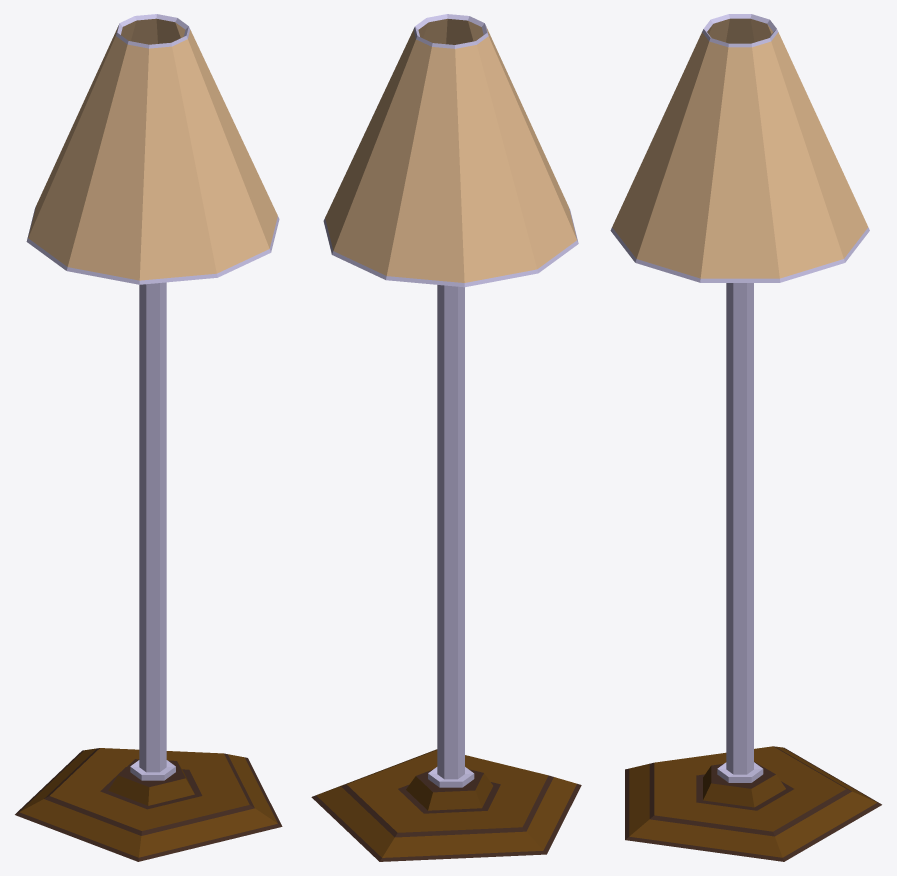
The model's file is Lamp2.fbx.
The picture shows the model from 3 angles, left to right: view 1: azimuth 30°, elevation 25°; view 2: azimuth 150°, elevation 25°; view 3: azimuth 270°, elevation 25°; orthographic projection.
Visible parts, largest first — view 1: Lamp; view 2: Lamp; view 3: Lamp.
Boxes of the visible parts, bbox=[...] form: Lamp: bbox=[15, 14, 282, 861]; Lamp: bbox=[311, 14, 581, 861]; Lamp: bbox=[610, 14, 881, 861].
Size of the model in its own units: 0.5897 by 1.87 by 0.5928.
